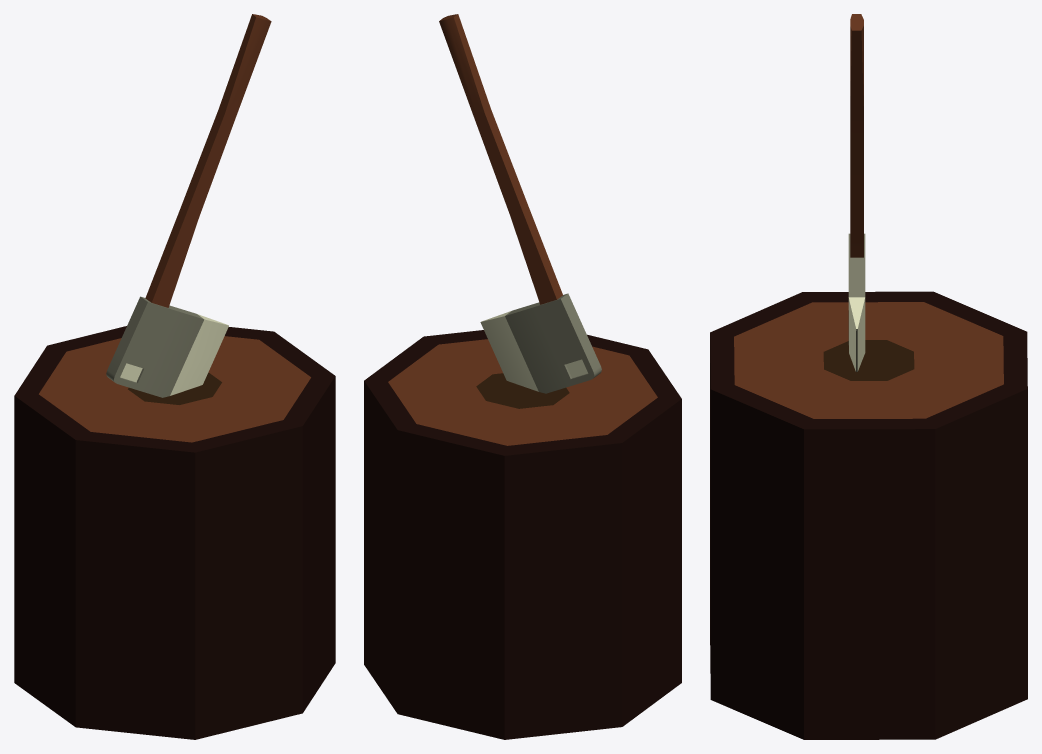
File: Log With axe.FBX
3 renders of one model, left to right at view 1: azimuth 30°, elevation 25°; view 2: azimuth 150°, elevation 25°; view 3: azimuth 270°, elevation 25°, orthographic. The views are drawn at different scales.
Parts seen in each view (by area): view 1: Log w/ axe; view 2: Log w/ axe; view 3: Log w/ axe.
Boxes of the visible parts, <box> form: Log w/ axe: <box>14,14,335,739</box>; Log w/ axe: <box>364,14,681,739</box>; Log w/ axe: <box>710,14,1027,739</box>.
Size of the model in its own units: 13.3 by 31.33 by 12.97.
